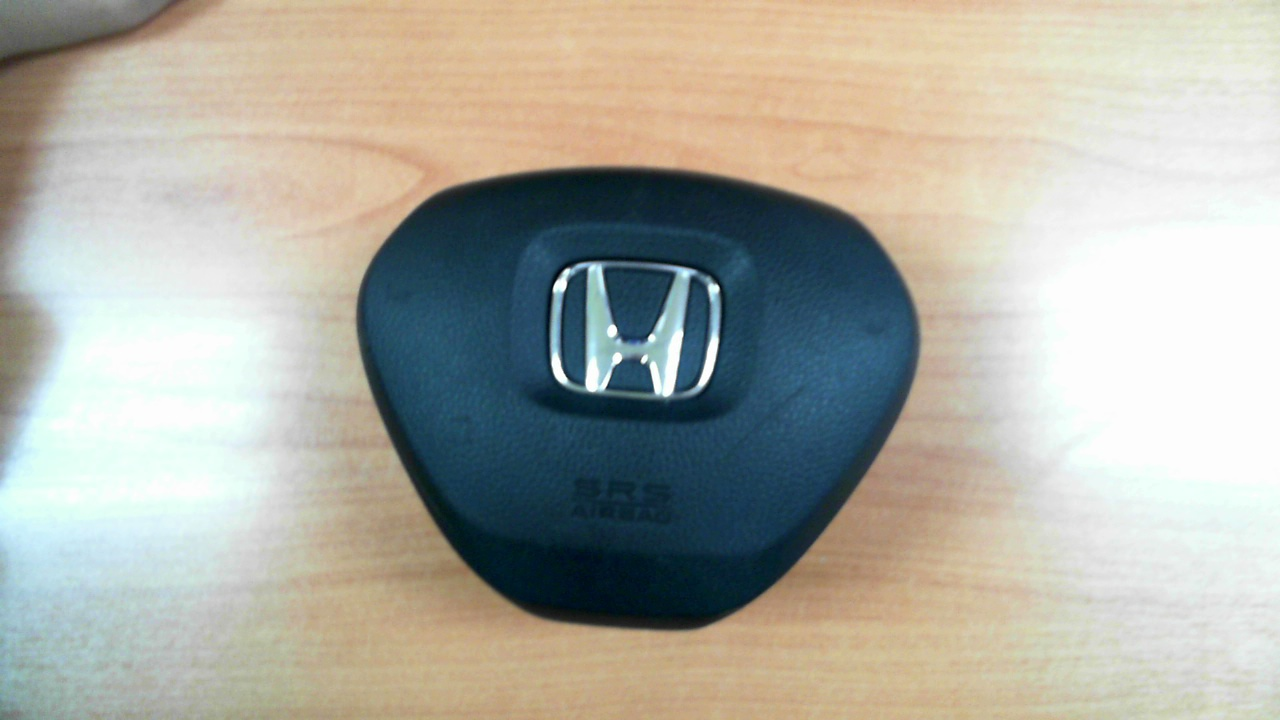Airbag: (356, 167, 922, 632)
Honda: (548, 260, 723, 402)
